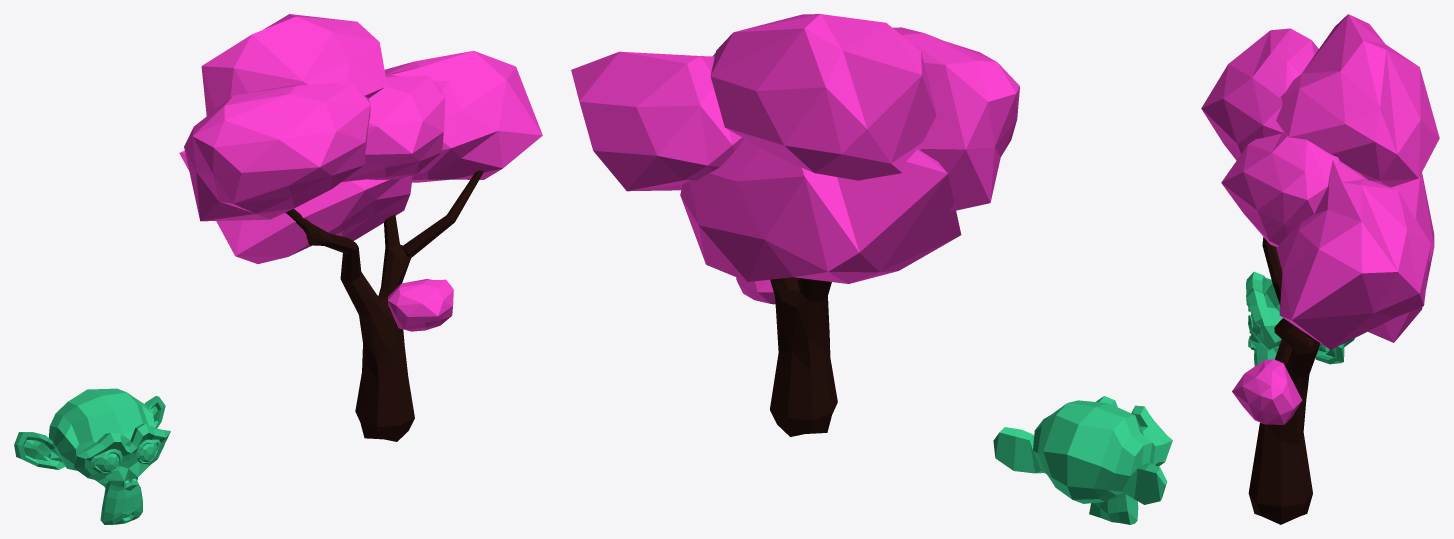
The model's file is Tree.1.4.obj.
3 renders of one model, left to right at view 1: azimuth 30°, elevation 25°; view 2: azimuth 150°, elevation 25°; view 3: azimuth 270°, elevation 25°, orthographic. The views are drawn at different scales.
Visible parts, largest first — view 1: Tree2.2_Cube.001, Zuzanna; view 2: Tree2.2_Cube.001, Zuzanna; view 3: Tree2.2_Cube.001, Zuzanna.
Boxes of the visible parts, bbox=[...] form: Tree2.2_Cube.001: bbox=[179, 14, 542, 441]; Zuzanna: bbox=[14, 388, 170, 524]; Tree2.2_Cube.001: bbox=[571, 14, 1019, 436]; Zuzanna: bbox=[993, 396, 1172, 524]; Tree2.2_Cube.001: bbox=[1201, 14, 1439, 524]; Zuzanna: bbox=[1246, 271, 1354, 366].
Bounding box in the file's own units: 9.3 × 7.34 × 3.4.
